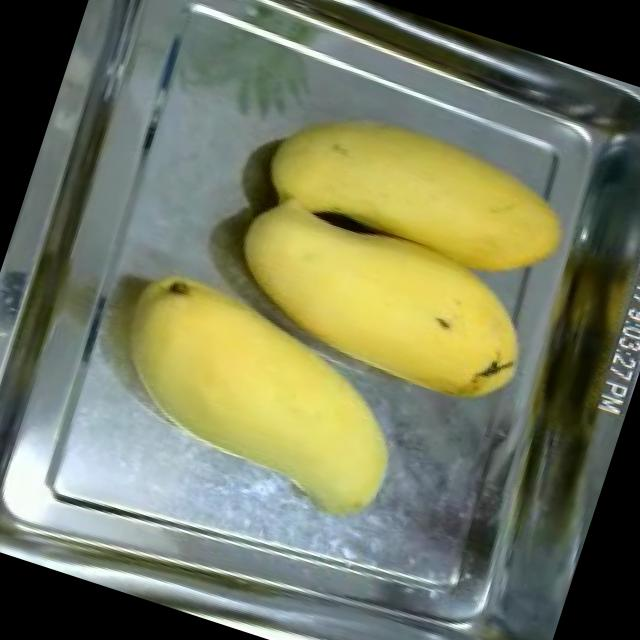fruit: (78, 250, 441, 524), (198, 174, 557, 427), (238, 74, 590, 306)
